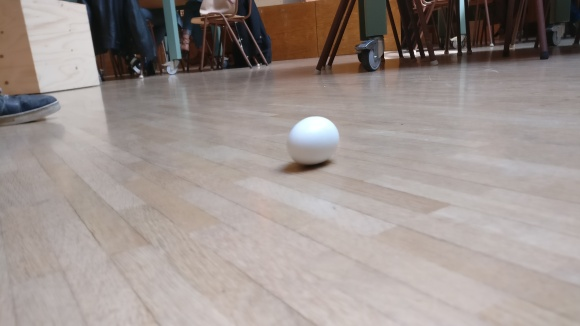egg: (285, 115, 340, 166)
